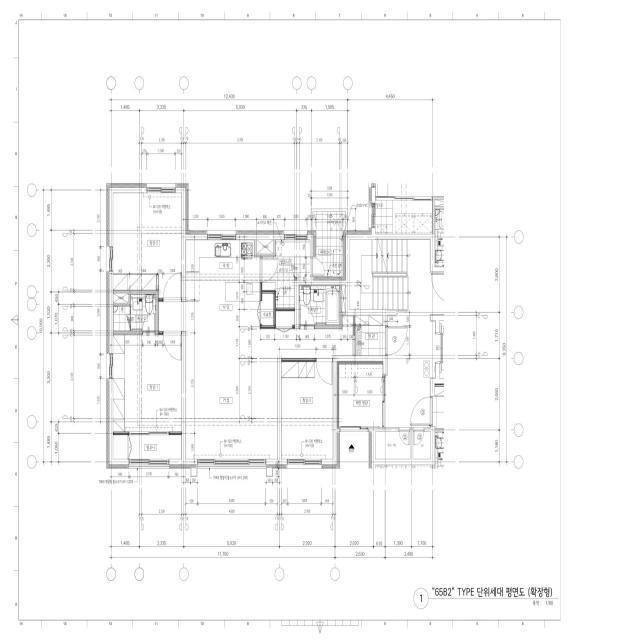space_balconi: (113, 193, 182, 291), (261, 240, 310, 308), (313, 211, 346, 277), (129, 433, 182, 459)
space_bedroom: (113, 333, 182, 432), (281, 360, 333, 459), (141, 233, 182, 298)
space_elevator: (439, 321, 444, 378)
space_elevator_hall: (384, 310, 444, 429)
space_front: (337, 361, 383, 428), (355, 315, 385, 356)
space_kitchen: (186, 240, 260, 326)
space_living_room: (158, 299, 353, 459), (274, 309, 295, 327)
space_other: (375, 432, 410, 459), (413, 432, 431, 459), (261, 293, 274, 325), (113, 433, 128, 459), (256, 240, 273, 254), (113, 293, 128, 303), (341, 284, 346, 312), (335, 262, 343, 276)
space_staircase: (350, 239, 444, 310)
space_toilet: (299, 284, 340, 326), (113, 293, 156, 332)
